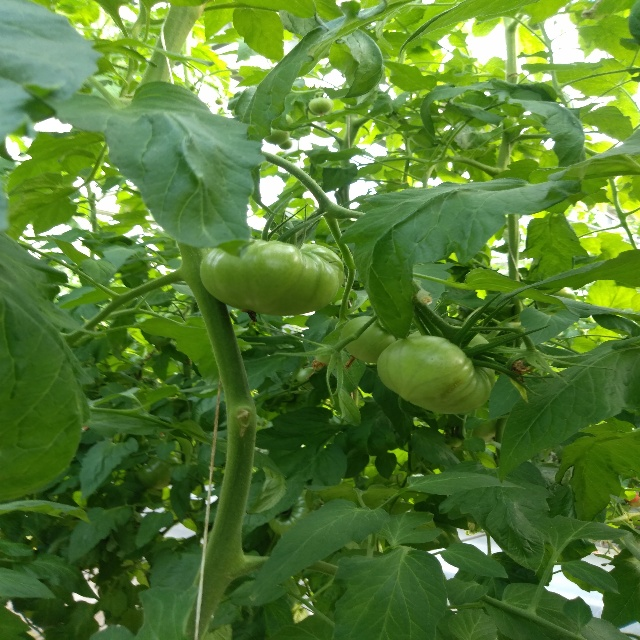b_green: (198, 238, 345, 318), (376, 326, 496, 414), (340, 316, 399, 363), (314, 346, 340, 365), (264, 127, 290, 145), (308, 97, 333, 115)
